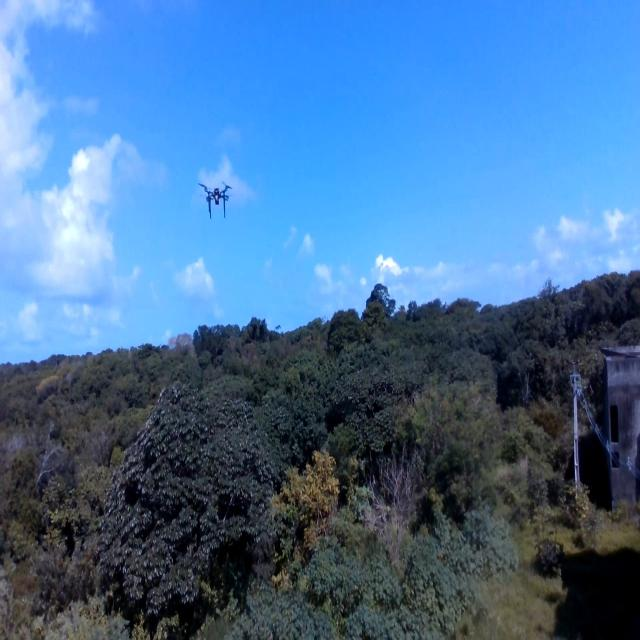-uav-: (192, 173, 240, 225)
